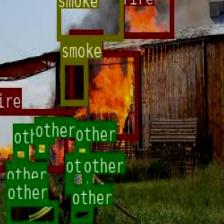fire: (69, 50, 137, 138), (0, 108, 66, 170), (119, 0, 172, 36)
smoke: (56, 0, 122, 39), (60, 57, 86, 104)
